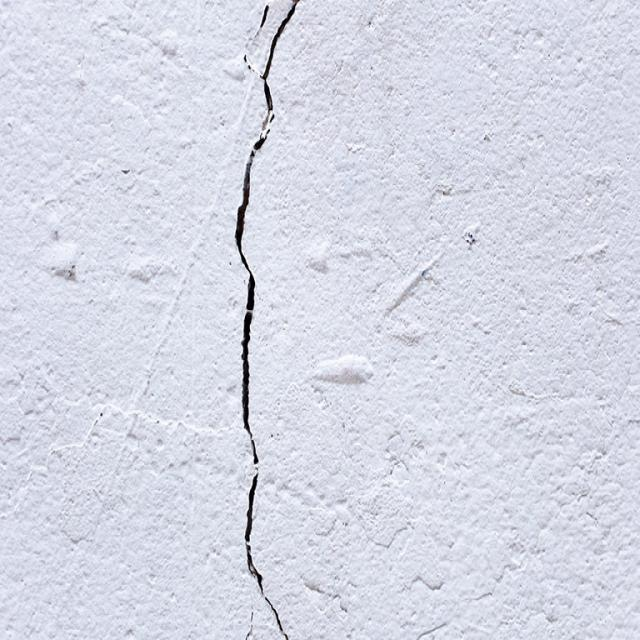Crack: (232, 2, 306, 640)
